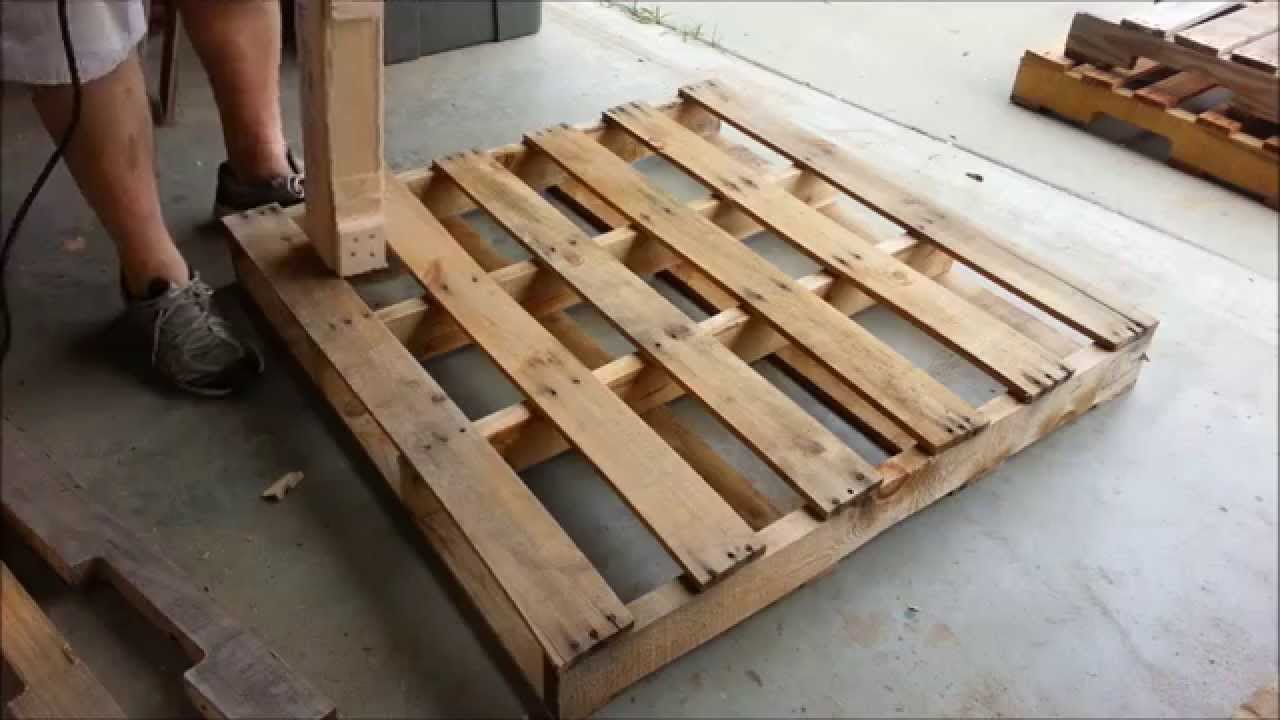pallet: (211, 110, 1170, 716)
